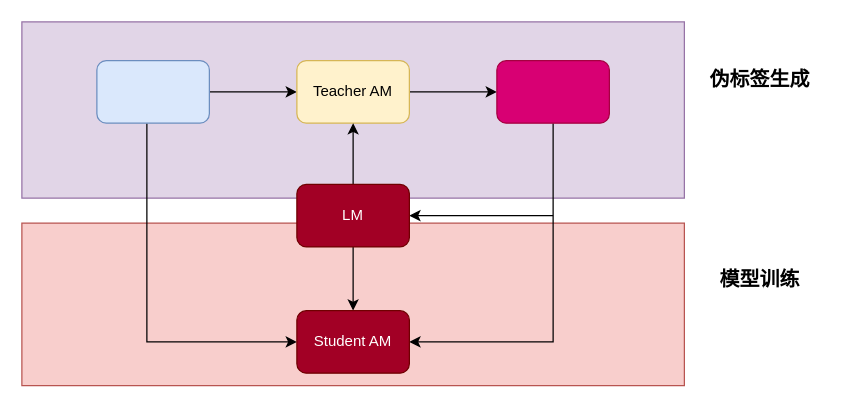
The diagram is 844 pixels wide and 408 high, and some of its shapes have lost their labels. The box of each missing label's shape, as (x1, y1, x2, y2) in pixels:
Data: (96, 59, 209, 123)
Pseudo-Label: (496, 59, 609, 123)
